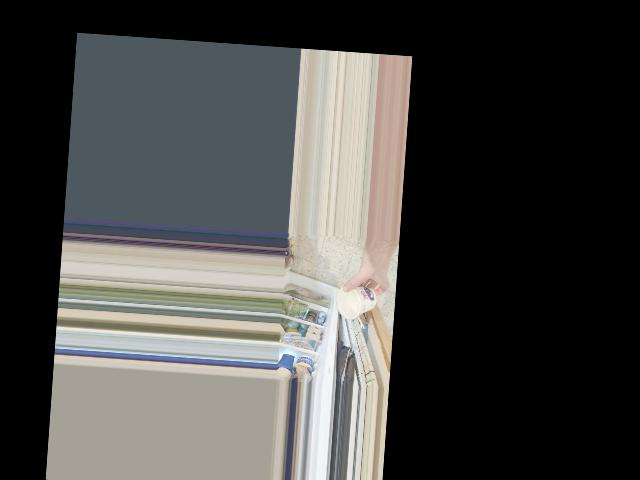cotage: (338, 282, 378, 319)
